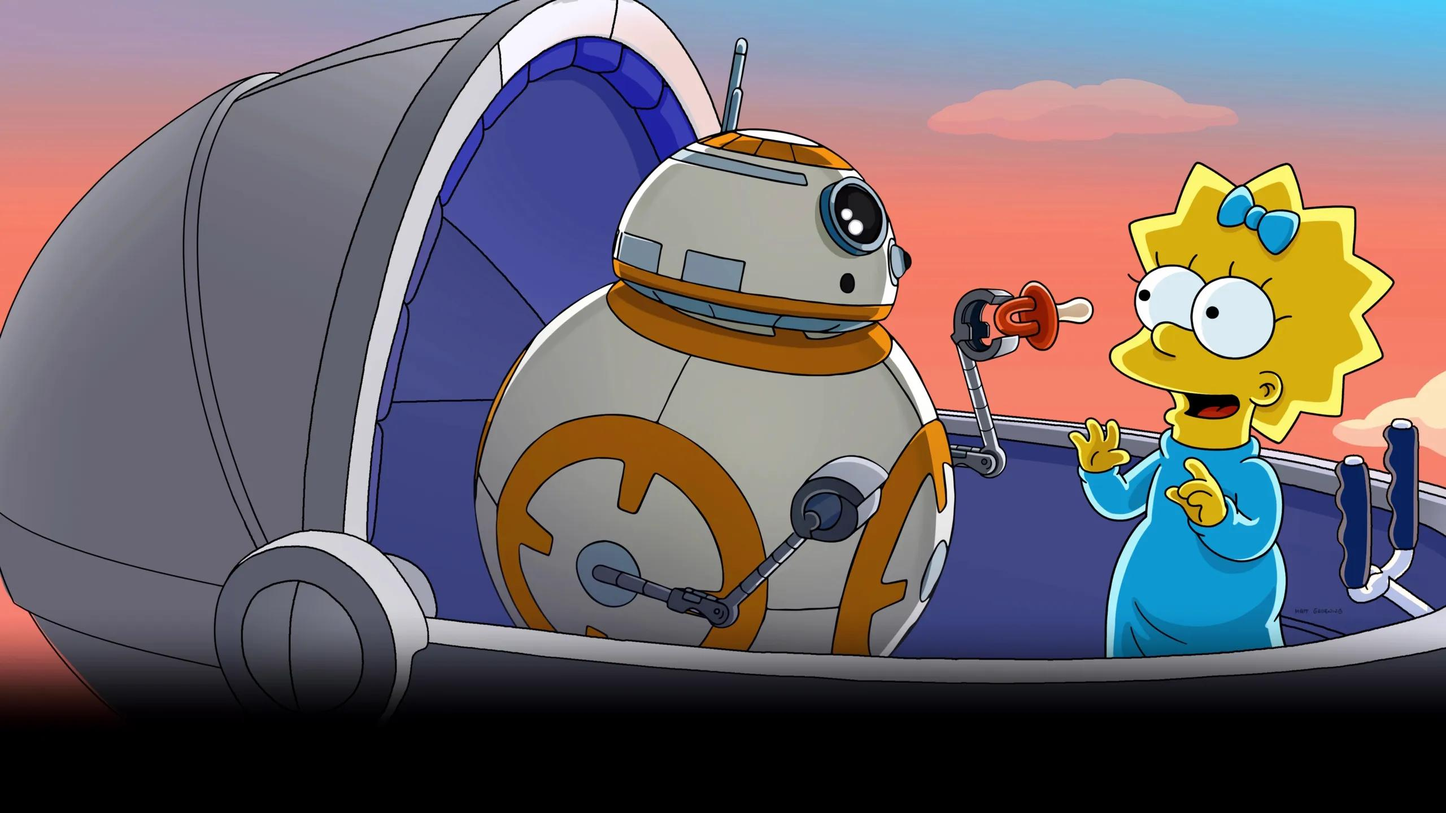Maggie: (1075, 132, 1401, 684)
